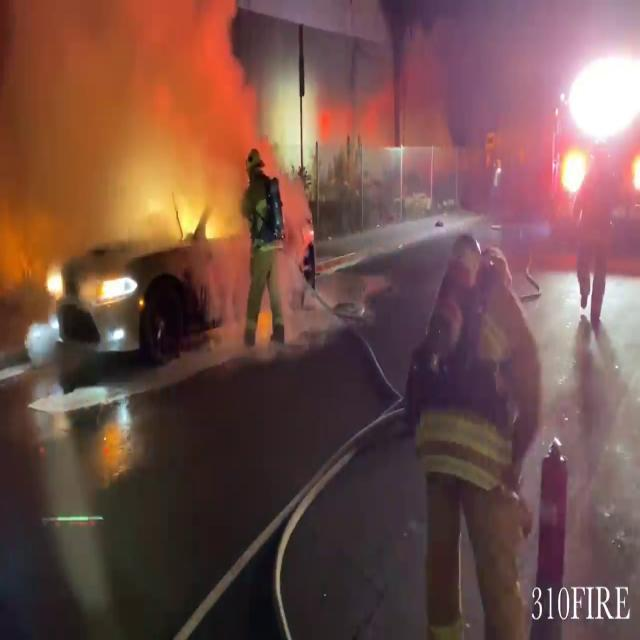Smoke: (0, 1, 267, 250)
